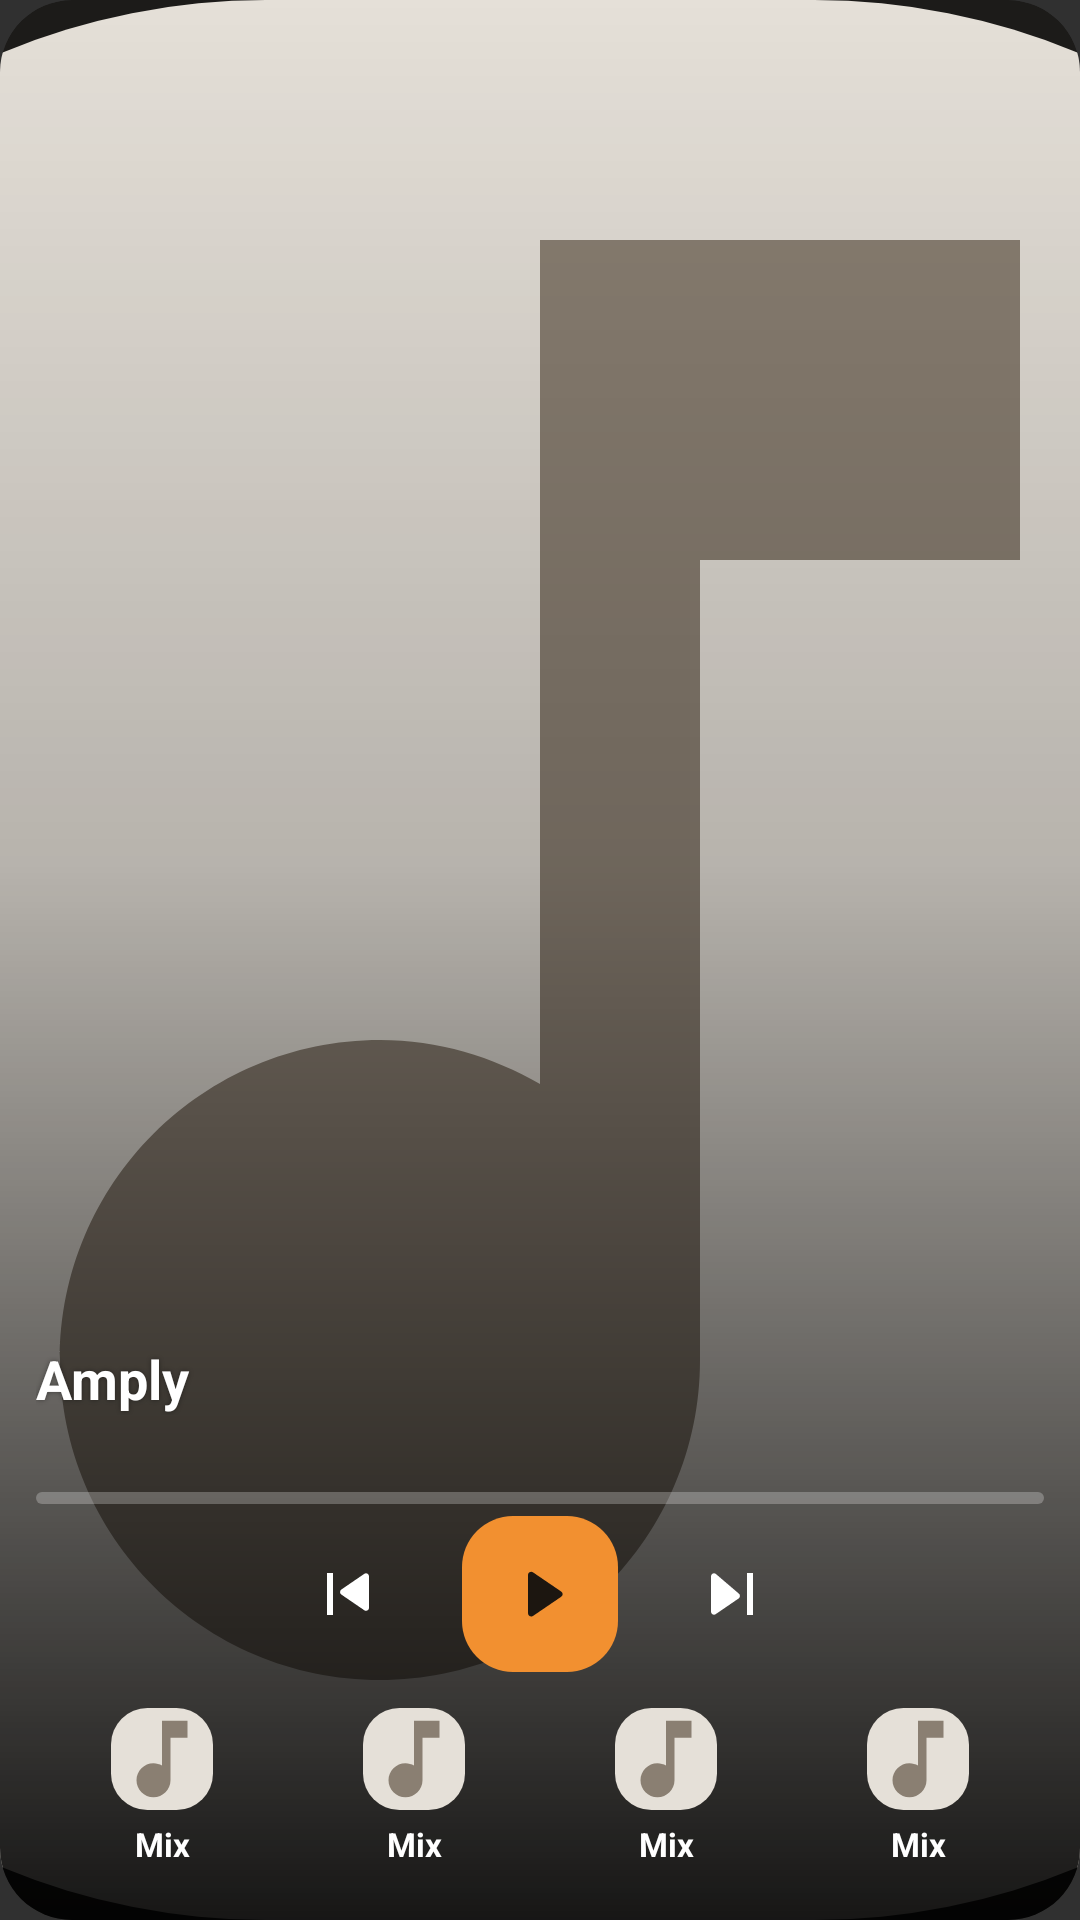

Screen size 1080 x 1920. Icon name, then its center in pixels as (x=x, y=y):
Next: (x=732, y=1594)
Play or pause: (x=540, y=1594)
Previous: (x=348, y=1594)
